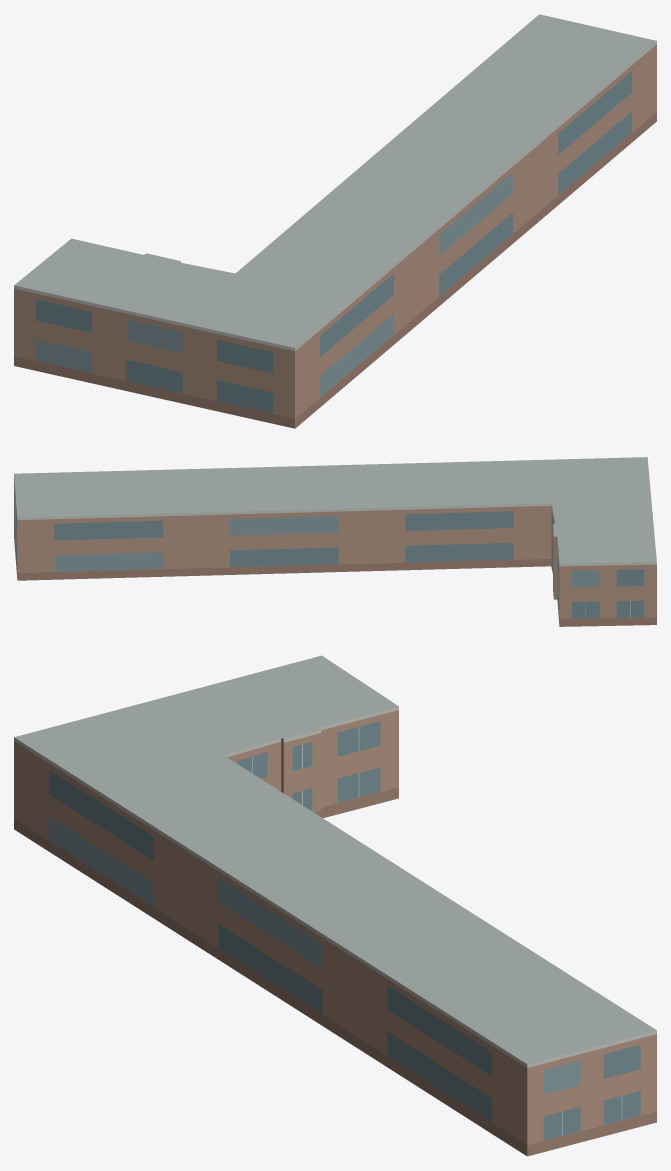
The model's file is survey-upis-32982472.glb.
The picture shows the model from 3 angles, top to bottom: view 1: azimuth 30°, elevation 25°; view 2: azimuth 150°, elevation 25°; view 3: azimuth 270°, elevation 25°; orthographic projection. The views are drawn at different scales.
Visible parts, largest first — view 1: survey-upis-32982472.tmp; view 2: survey-upis-32982472.tmp; view 3: survey-upis-32982472.tmp.
Boxes of the visible parts, x1=… form: survey-upis-32982472.tmp: x1=14, y1=14, x2=656, y2=428; survey-upis-32982472.tmp: x1=14, y1=457, x2=656, y2=626; survey-upis-32982472.tmp: x1=14, y1=655, x2=656, y2=1156.
Bounding box in the file's own units: 58.06 × 6.1 × 38.59.
